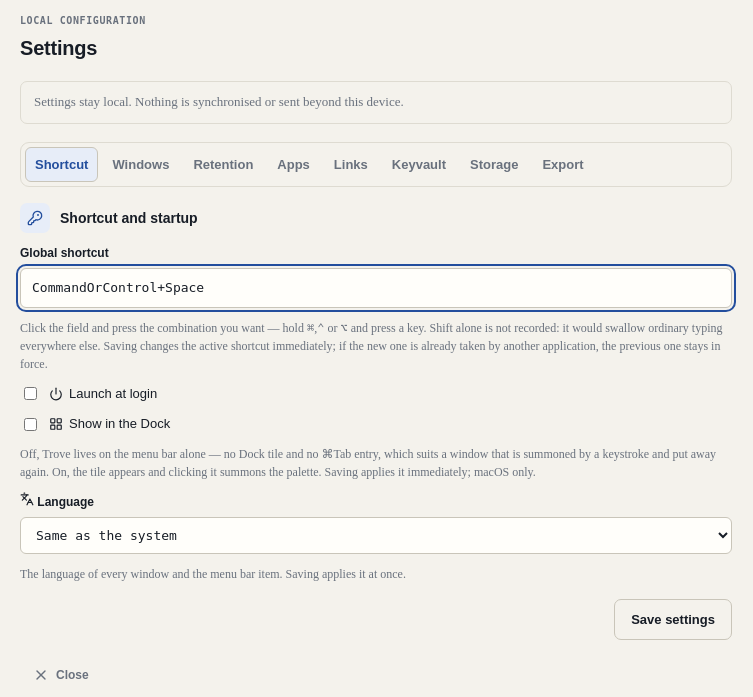
Test: Settings page and storage semantics › shows unavailable instead of rendering unsafe storage values
What coordinates should you click on to do the following:
click the tab "Storage"
I would click on:
 (494, 165)
Its box is [460, 147, 528, 182].
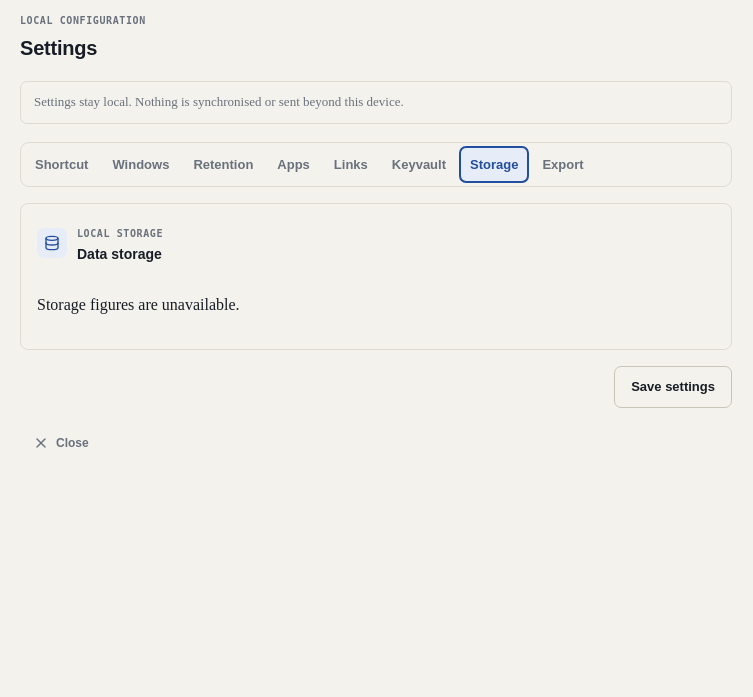
expect the text "Storage figures are unavailable." is shown: met, box [37, 296, 240, 313]
